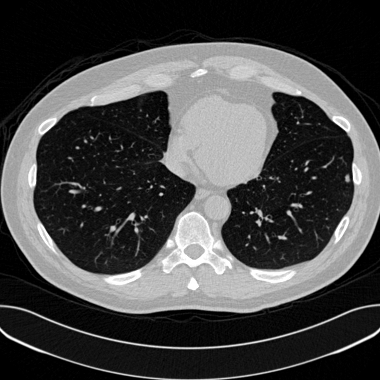nodule: (344, 175, 350, 181)
